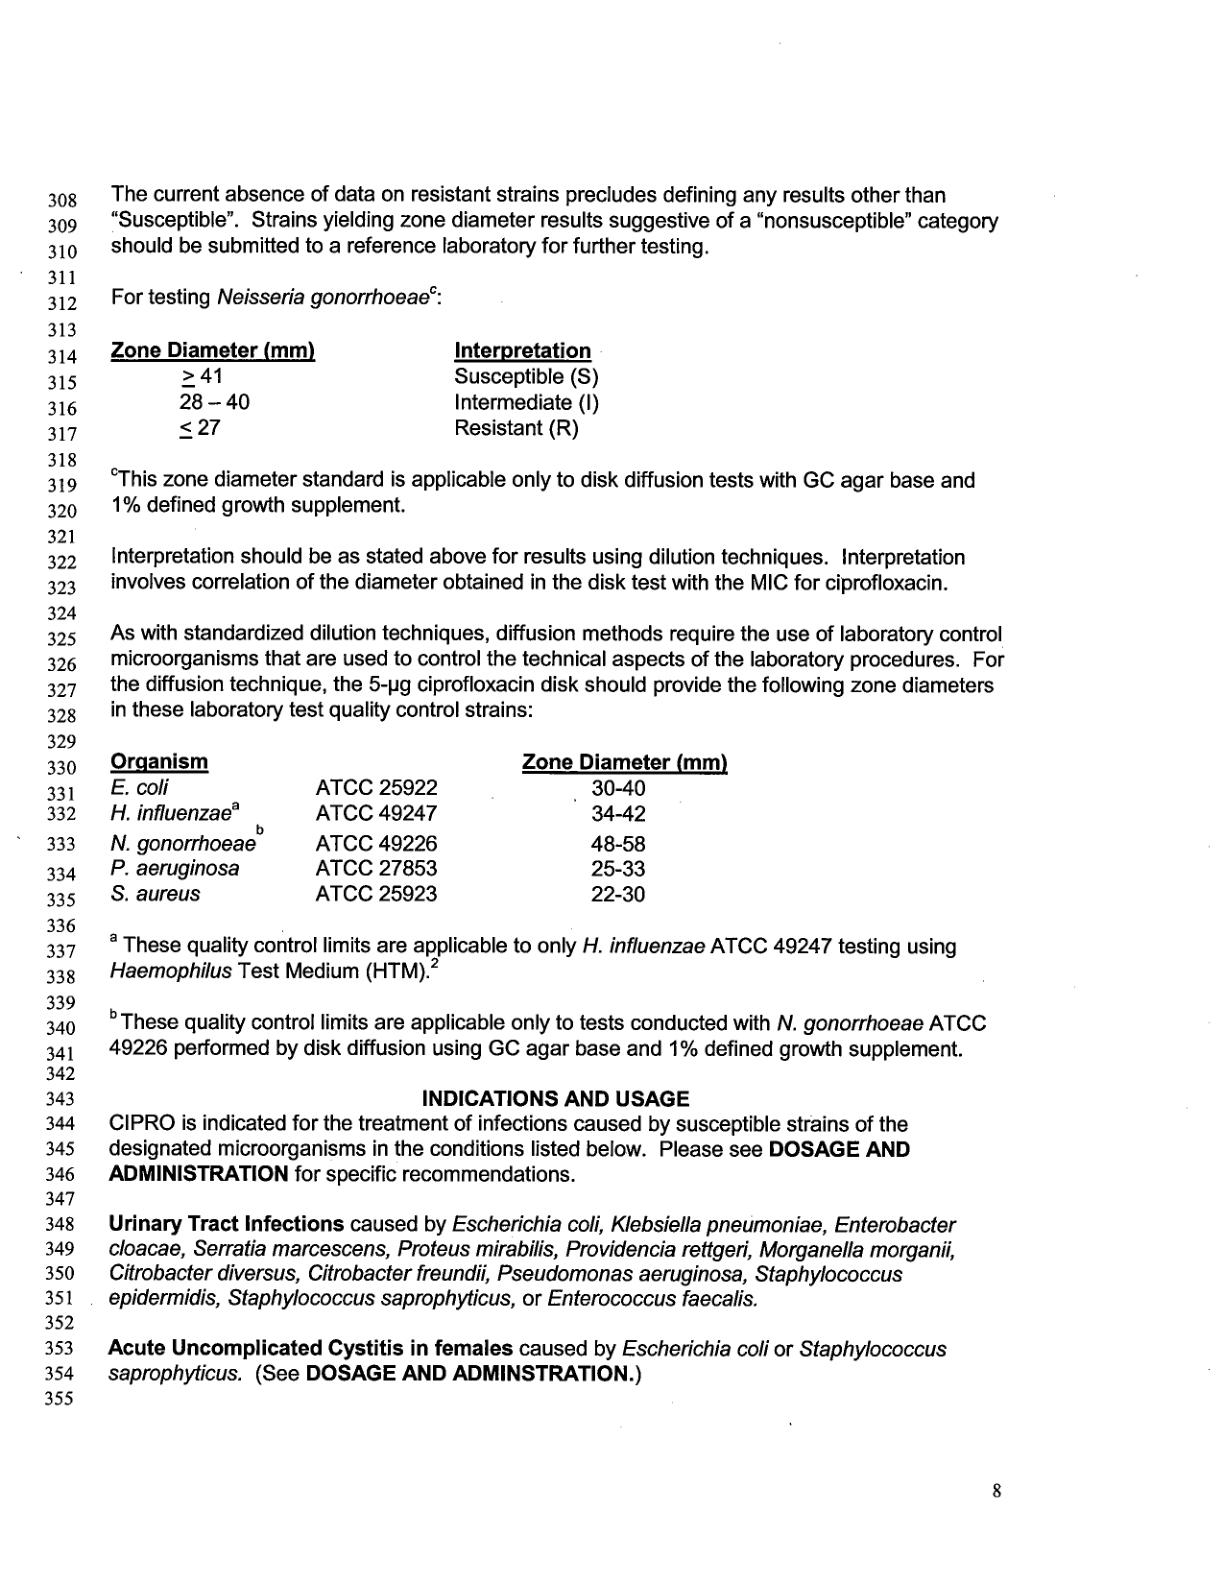nolines: (108, 750, 732, 906), (105, 337, 602, 442)
